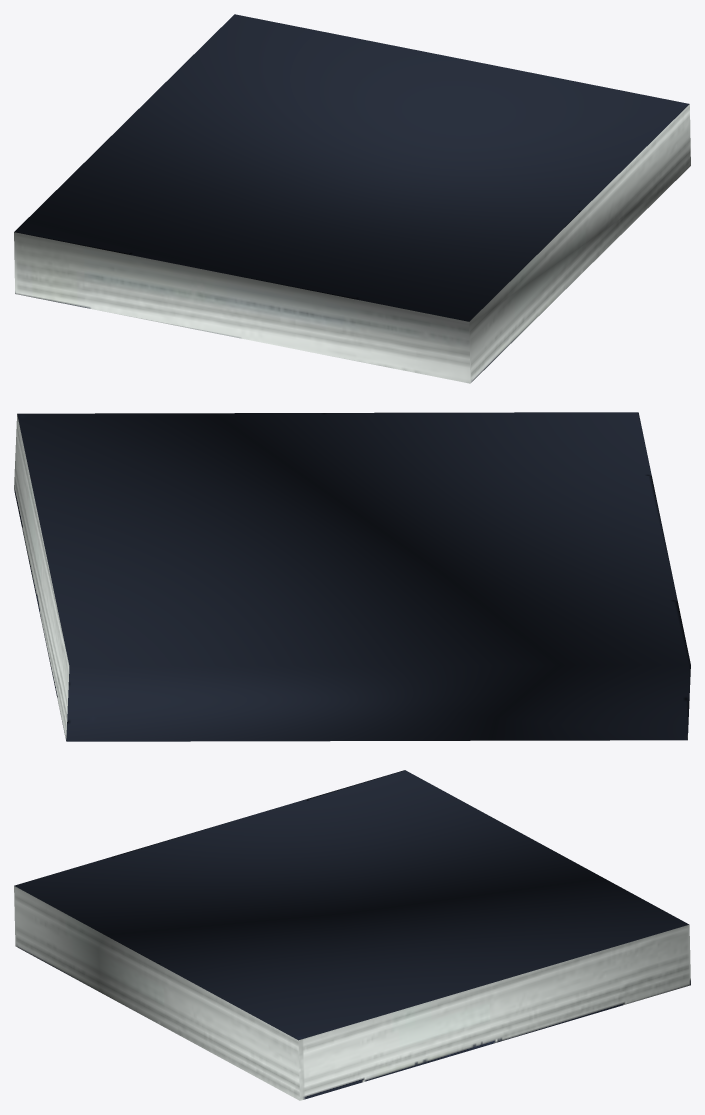
File: Book.fbx
3 renders of one model, top to bottom at view 1: azimuth 30°, elevation 25°; view 2: azimuth 150°, elevation 25°; view 3: azimuth 270°, elevation 25°, orthographic. The views are drawn at different scales.
Visible parts, largest first — view 1: Book; view 2: Book; view 3: Book.
Part boxes in pixels (box(x1,y1,x2,y2)): Book: box(14, 14, 690, 383); Book: box(14, 412, 690, 741); Book: box(14, 770, 690, 1100).
Bounding box in the file's own units: 15.49 × 1.93 × 15.37.
